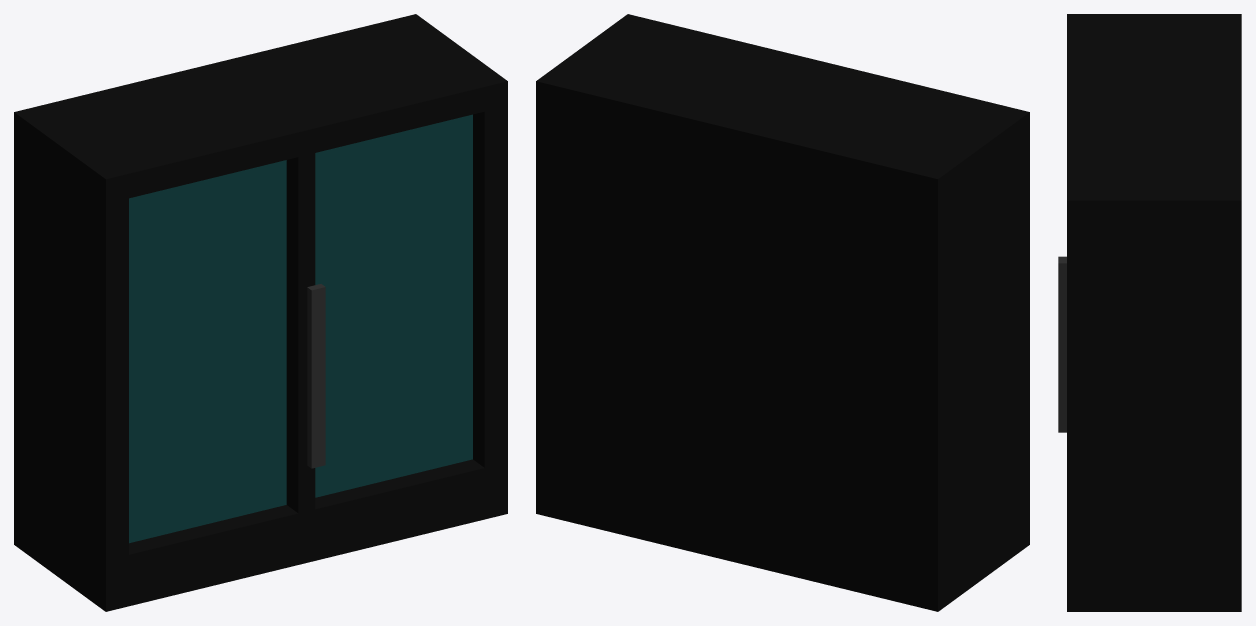
Rendered from frigorifico.FBX.
3 views of the same model, side by side, from view 1: azimuth 30°, elevation 25°; view 2: azimuth 150°, elevation 25°; view 3: azimuth 270°, elevation 25° (orthographic). The views are drawn at different scales.
Parts seen in each view (by area): view 1: Box003; view 2: Box003; view 3: Box003.
Part boxes in pixels (bbox=[...]): Box003: bbox=[14, 14, 507, 611]; Box003: bbox=[536, 14, 1029, 611]; Box003: bbox=[1058, 14, 1241, 611].
Size of the model in its own units: 23.22 by 23.88 by 9.63.
